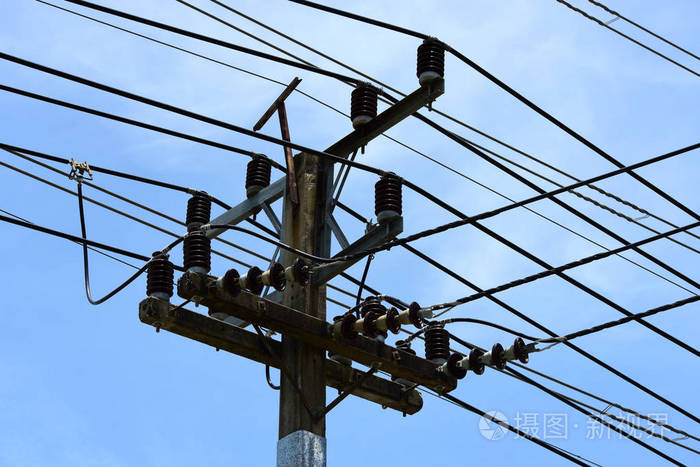insulator: (445, 335, 530, 379), (221, 257, 313, 297), (338, 299, 422, 338)
